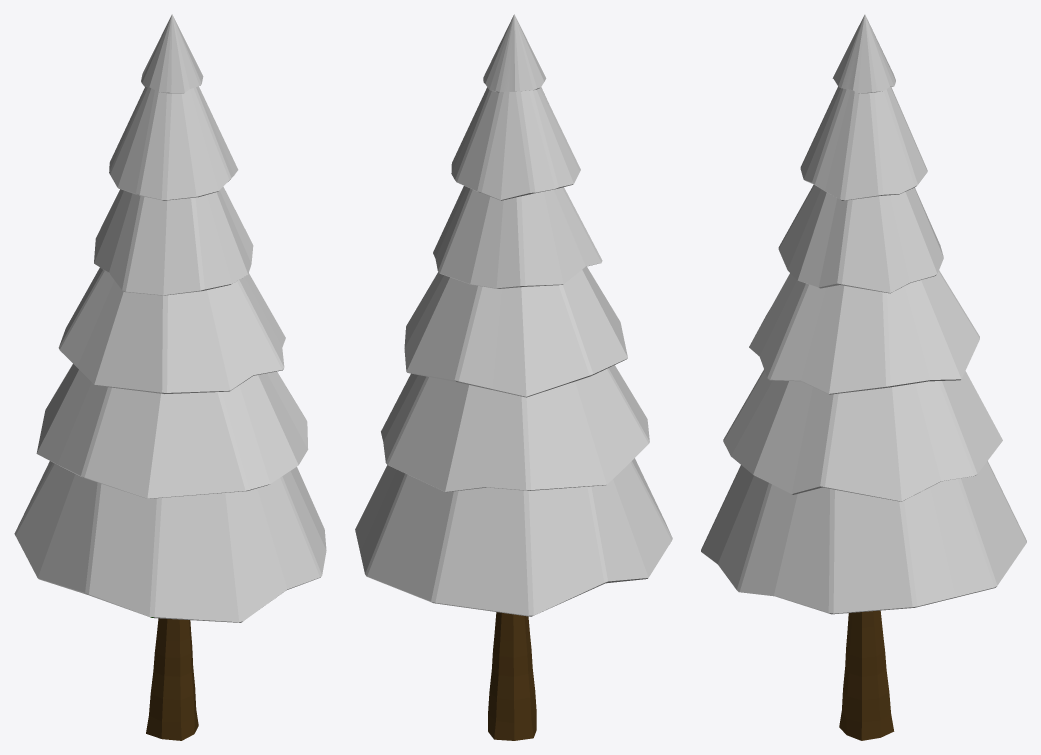
File: pine-tree-snow.fbx
3 views of the same model, side by side, from view 1: azimuth 30°, elevation 25°; view 2: azimuth 150°, elevation 25°; view 3: azimuth 270°, elevation 25° (orthographic).
Visible parts, largest first — view 1: Pine tree snow; view 2: Pine tree snow; view 3: Pine tree snow.
Part boxes in pixels (x1,y1,x2,y2): Pine tree snow: (14,14,326,740); Pine tree snow: (355,14,672,740); Pine tree snow: (701,14,1026,740).
Bounding box in the file's own units: 799 × 2024 × 836.
